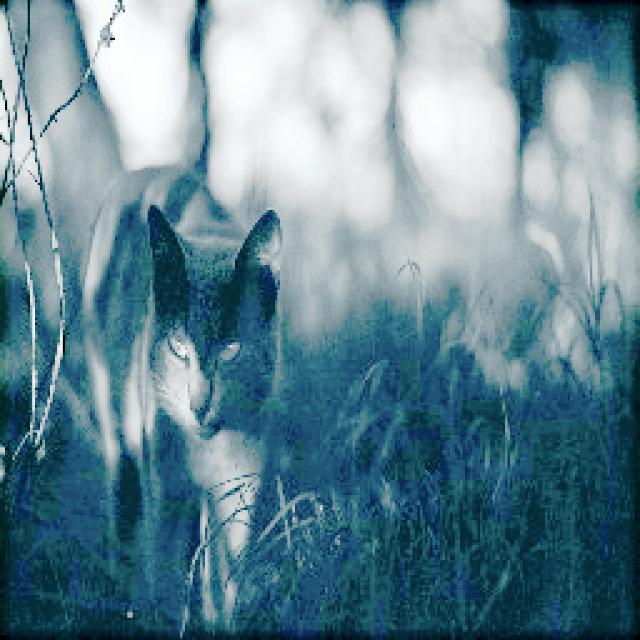cat: (72, 160, 288, 640)
